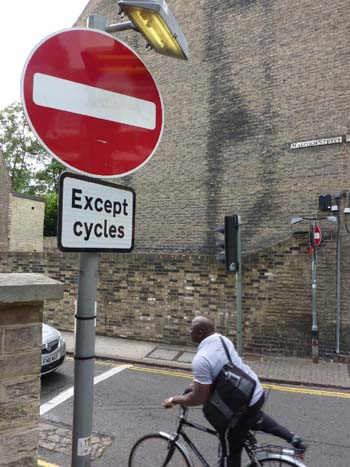No_entry: (19, 27, 165, 179)
